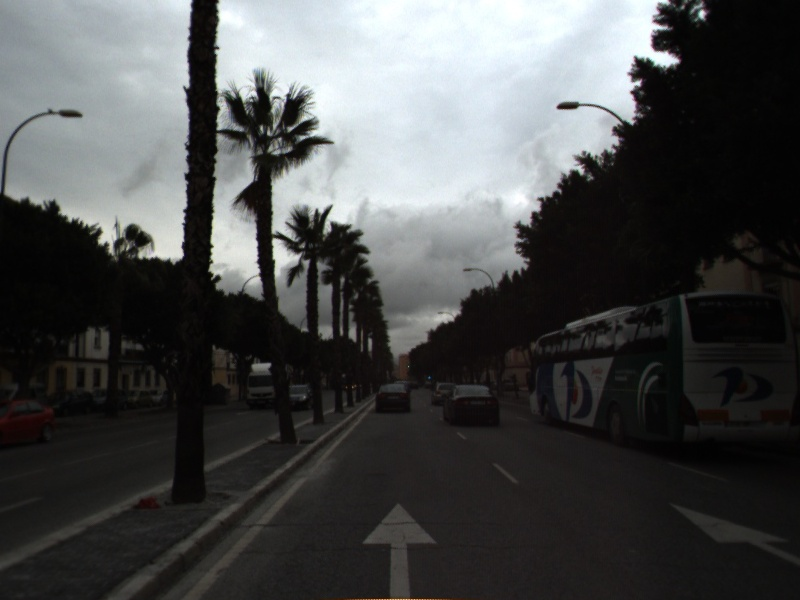STRAIGHT: (350, 504, 452, 600), (665, 500, 800, 564)
